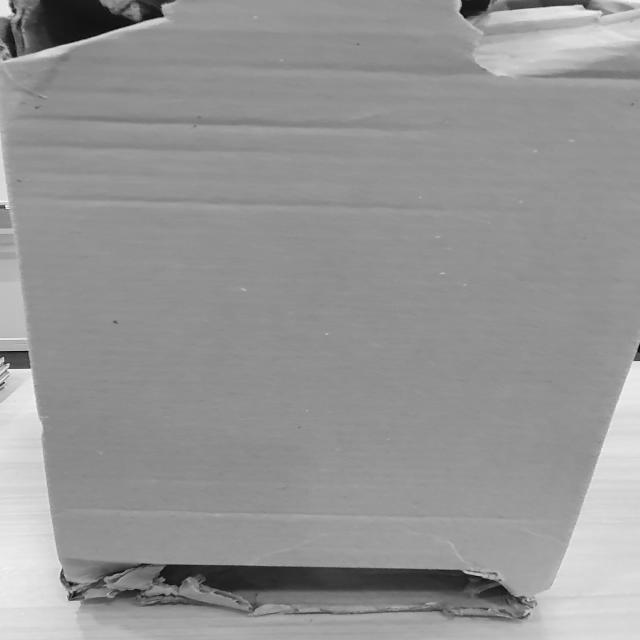hole: (60, 554, 548, 618), (9, 1, 187, 59), (455, 0, 623, 31)
